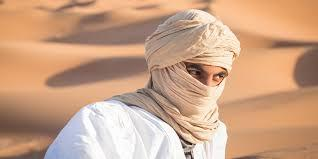scarf-kerchief: (126, 1, 253, 125)
